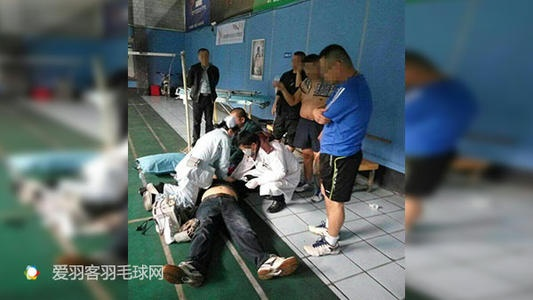falling: (155, 176, 312, 283)
